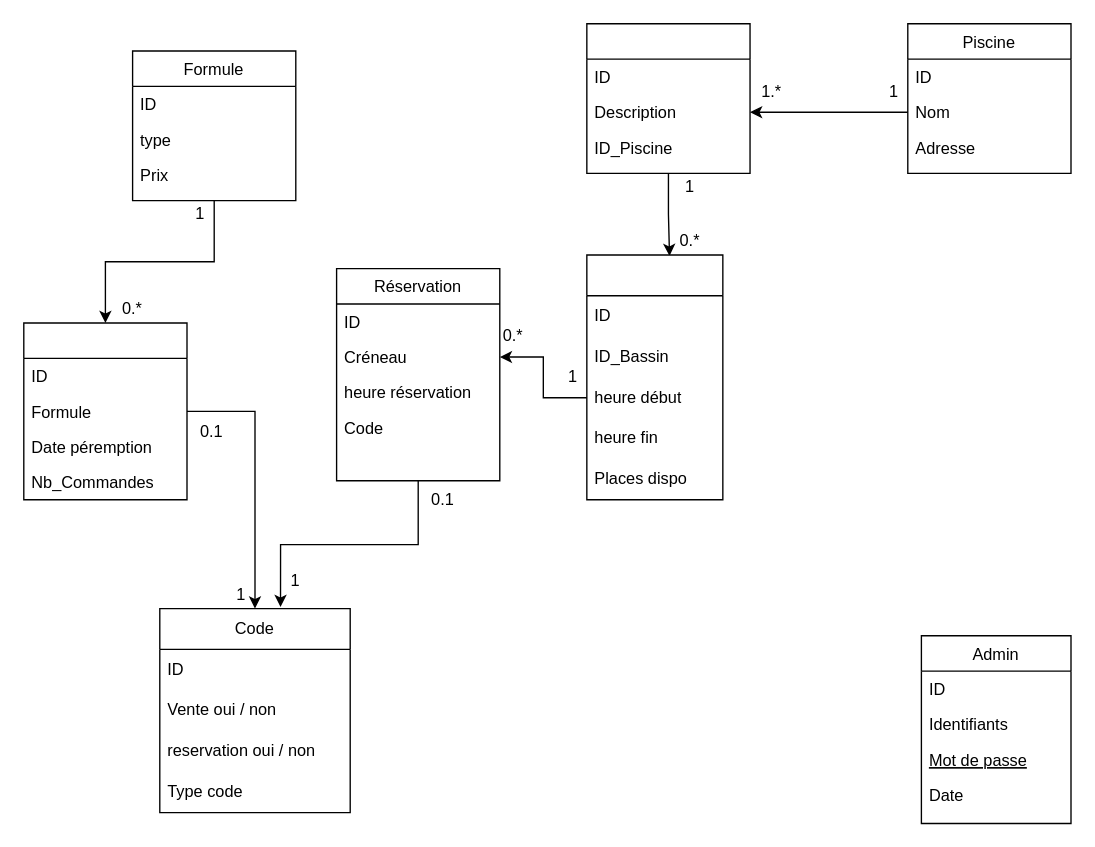
The diagram is 1095 pixels wide and 847 high, and some of its shapes have lost their labels. The shapes that lost their labels are listed below. From the top down, each one's box as (x1, y1, x2, y2) in pixels, then its label:
(585, 22, 750, 173): Bassin
(585, 254, 723, 500): Créneaux
(22, 322, 187, 500): Ventes
